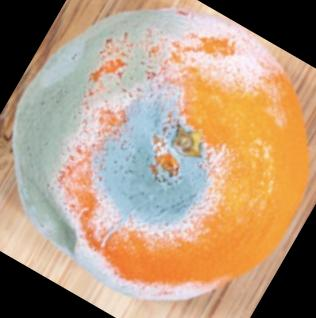Orange Rotten: (3, 7, 316, 304)
